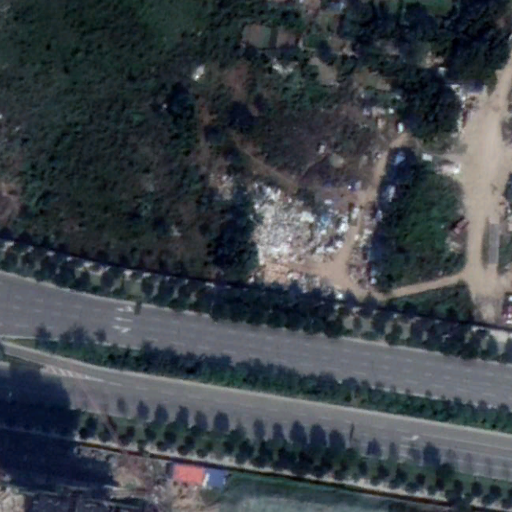msw: (251, 184, 348, 265)
